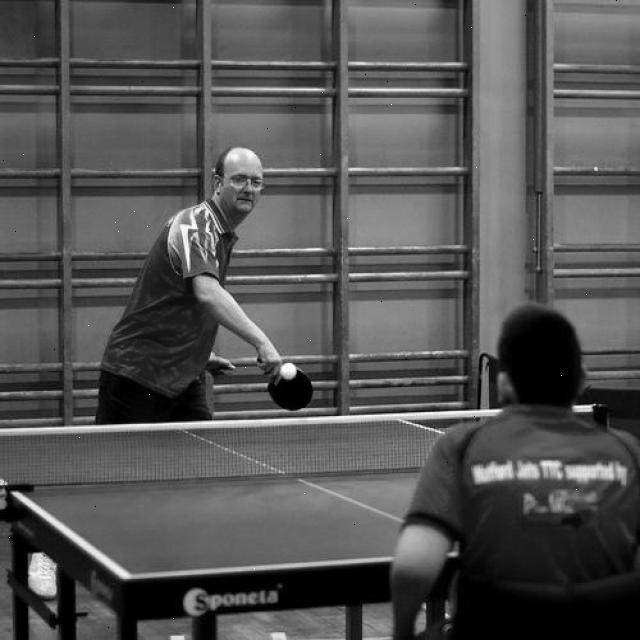ping-pong-ball: (279, 362, 297, 380)
